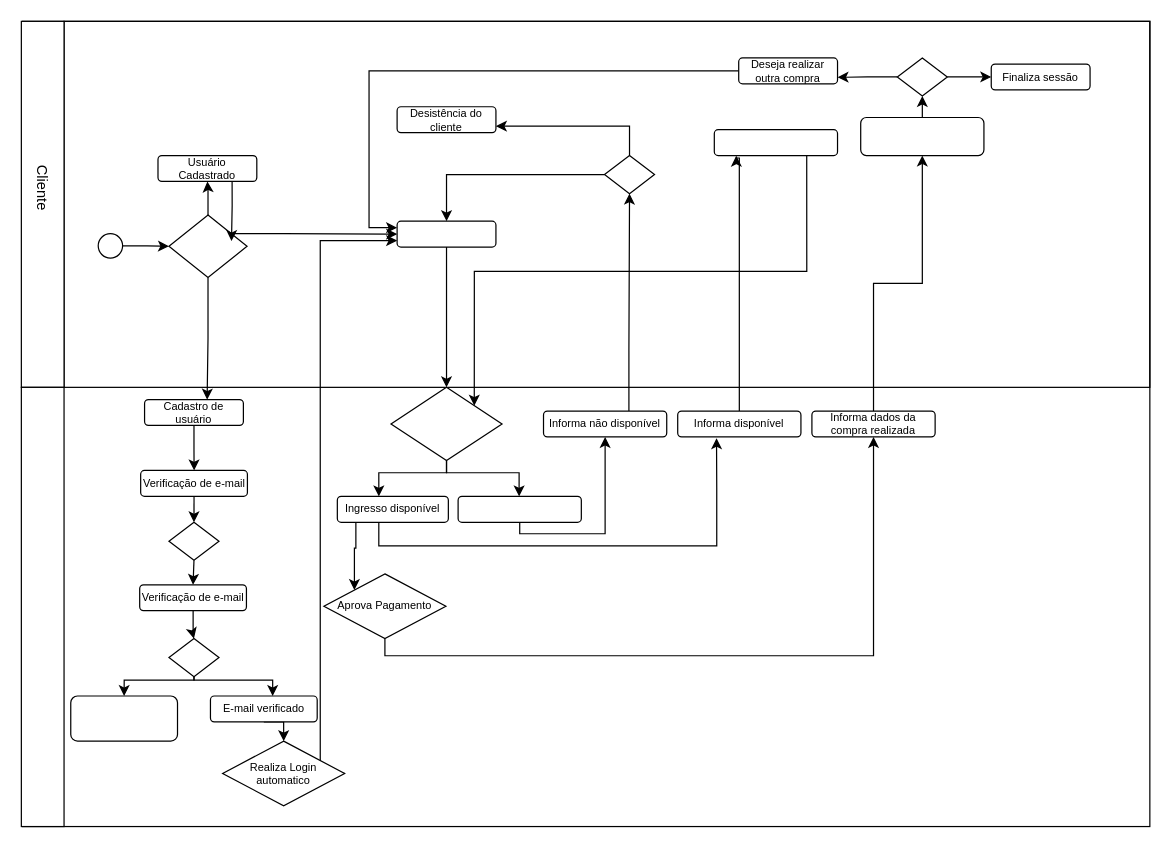
Image size: 1171x848. Some labels were removed from this diagram. Here are the shapes that lost their labels. From the top down, the box of each, then its label:
(713, 128, 838, 156): Realiza requisição de pagamento
(859, 116, 984, 156): Verifica informações sobre compra do ingresso
(168, 214, 247, 278): Login
(396, 220, 496, 247): Solicita Ingresso
(390, 386, 502, 461): Checa Disponibilidade
(457, 495, 581, 522): Ingresso não disponível
(20, 386, 64, 827): Sistema
(70, 695, 178, 741): Informa necessidade de verificar e-mail novamente
